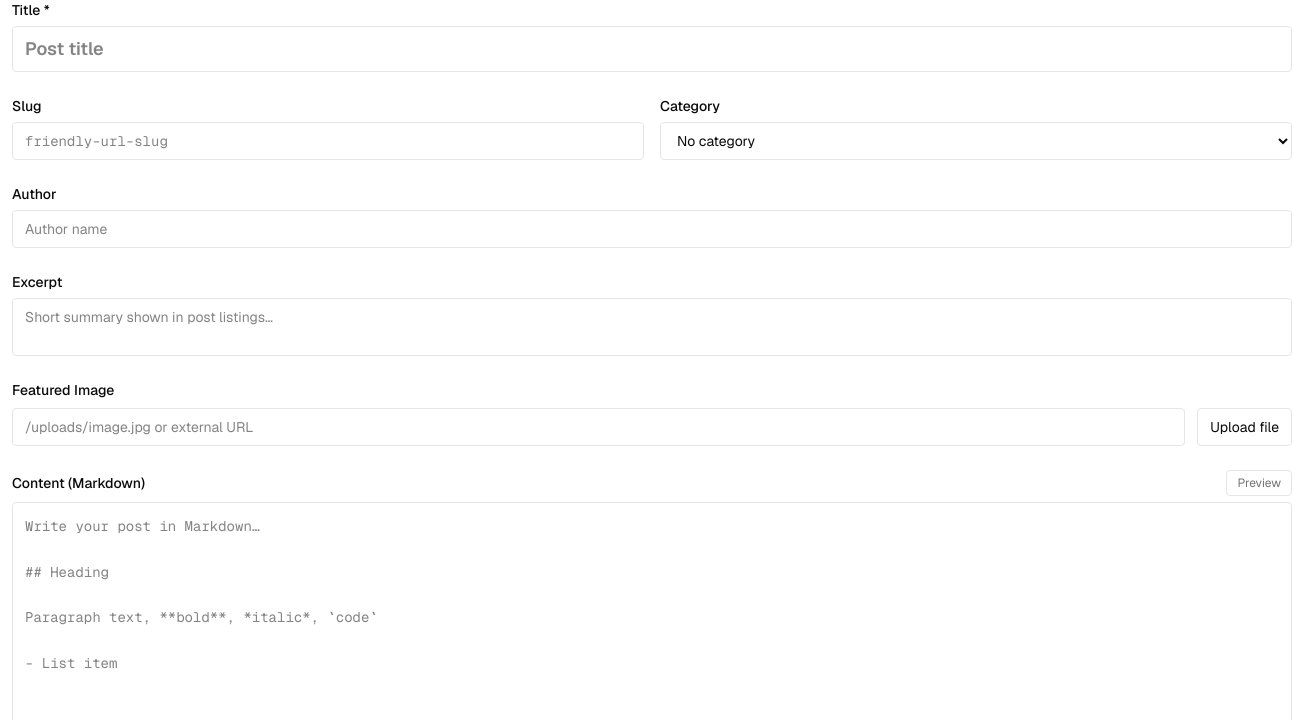
Scenario: PostForm › saving › shows fallback error message when server omits error field
Type "My Post" into the field with placeholder "Post title". click: (652, 49)
box: [12, 26, 1292, 72]
(page scrolled)
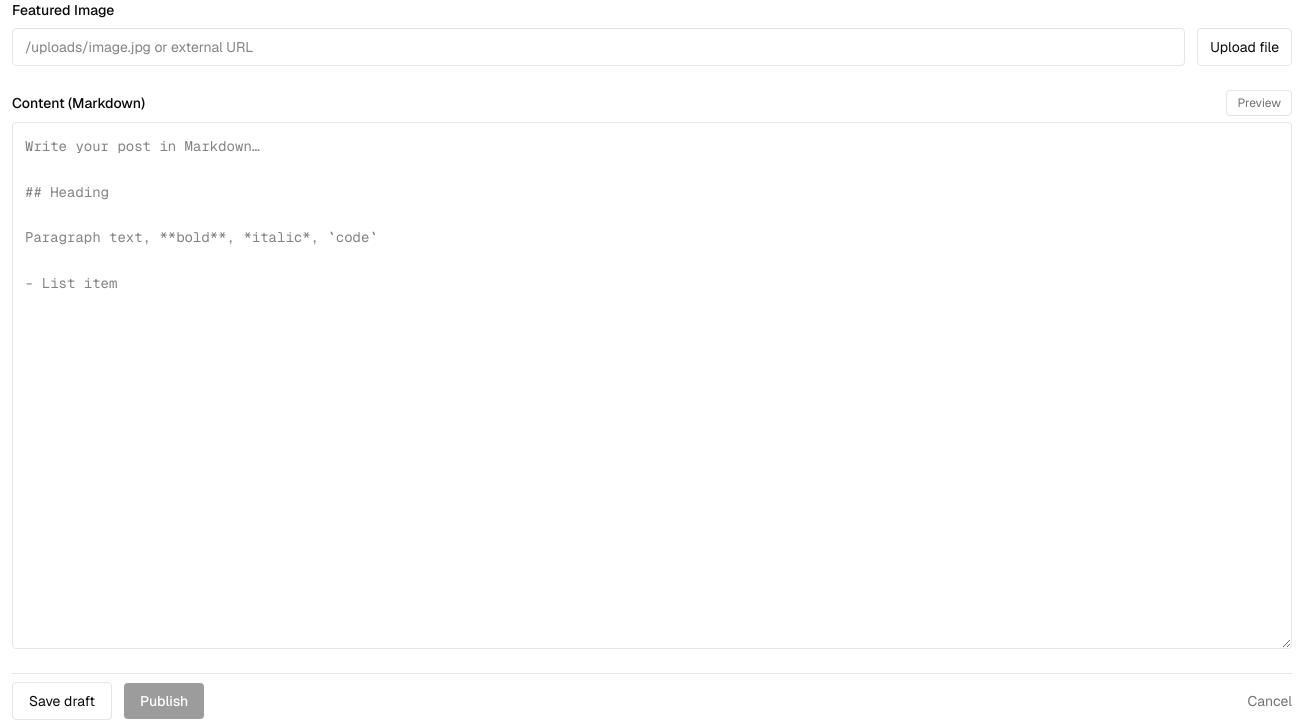
Click the button "Save draft". click: (62, 700)
box: [12, 682, 112, 719]
(page scrolled)
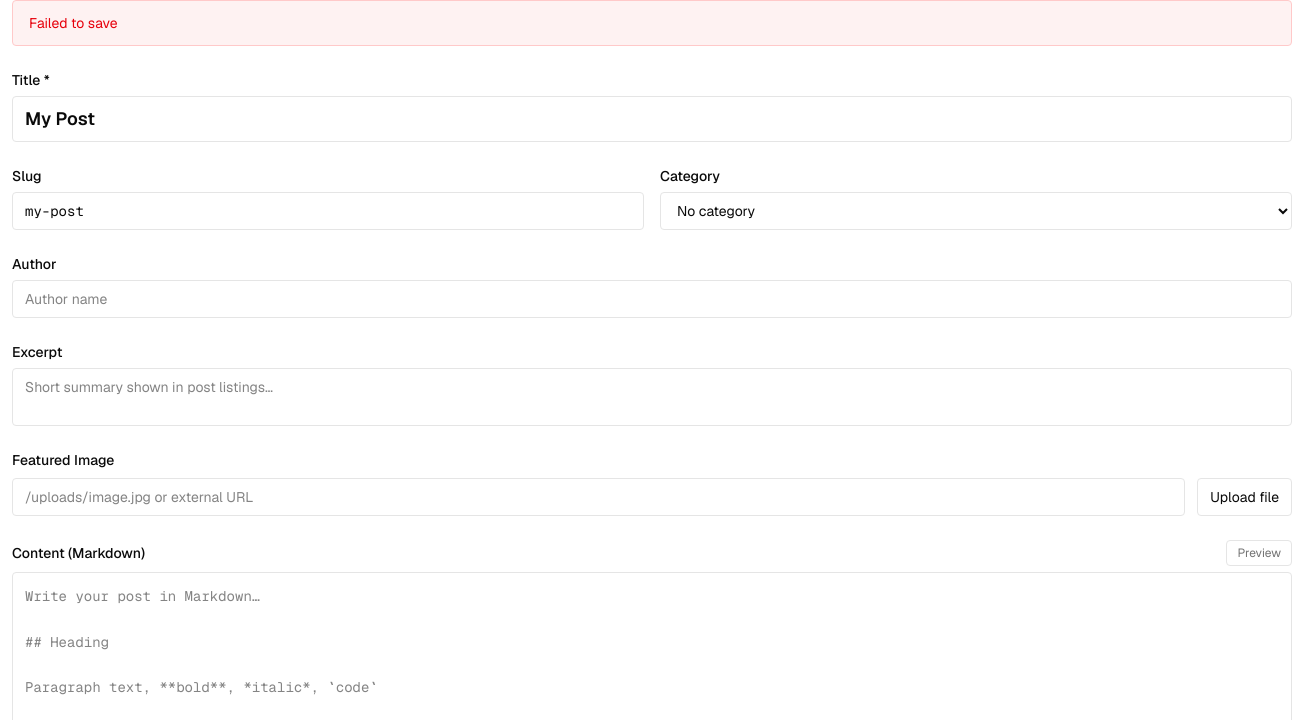
Now the text "Failed to save" is shown, box [12, 0, 1292, 46]
